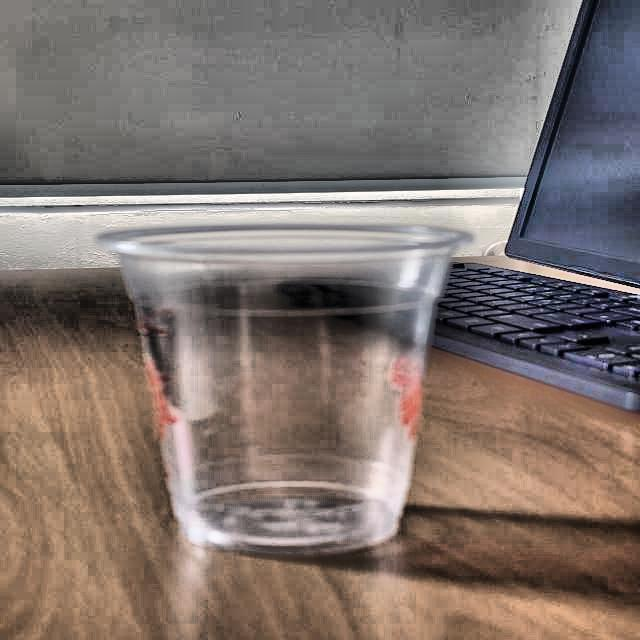plastic cup: (94, 222, 481, 556)
